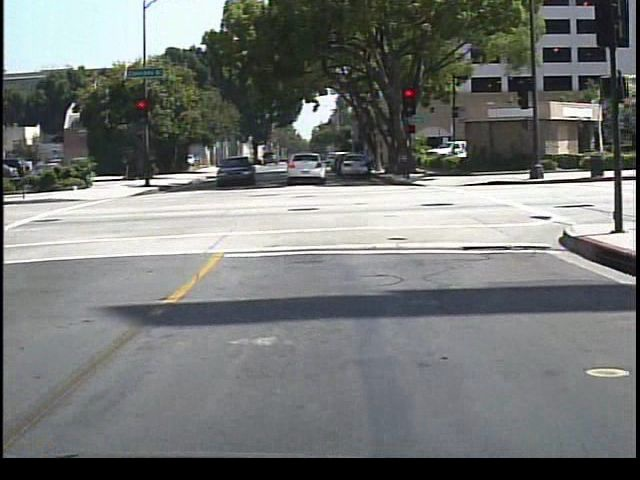person: (359, 144, 381, 185)
